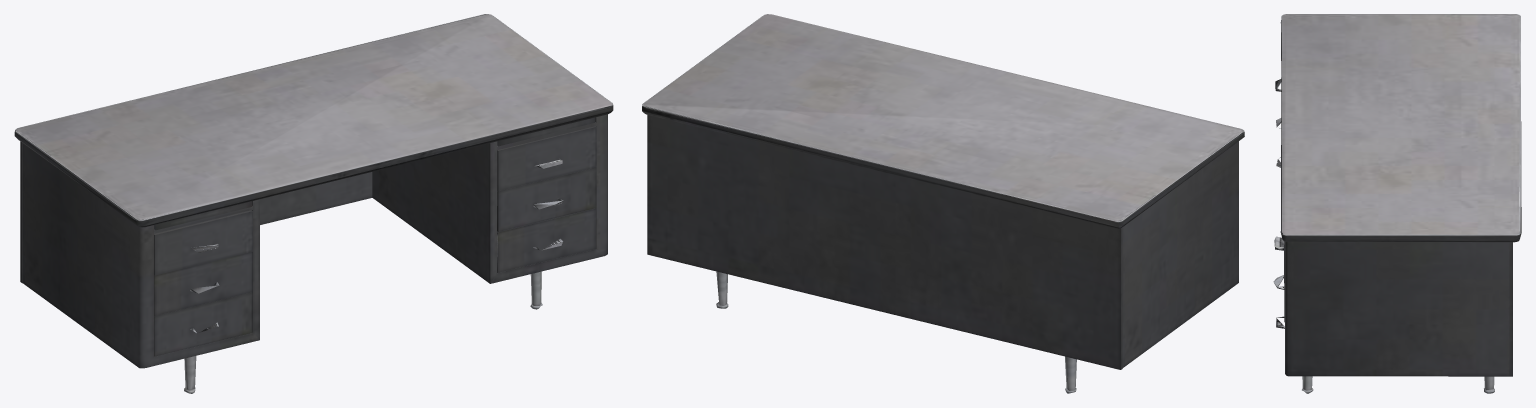
The model's file is metal_office_desk.glb.
3 views of the same model, side by side, from view 1: azimuth 30°, elevation 25°; view 2: azimuth 150°, elevation 25°; view 3: azimuth 270°, elevation 25° (orthographic). The views are drawn at different scales.
Parts seen in each view (by area): view 1: metal_office_desk, metal_office_desk_drawer_04, metal_office_desk_drawer_01, metal_office_desk_drawer_02, metal_office_desk_drawer_03, metal_office_desk_drawer_06, metal_office_desk_drawer_05, metal_office_desk_tray_01, metal_office_desk_tray_02; view 2: metal_office_desk; view 3: metal_office_desk.
Part boxes in pixels (x1,y1,x2,y2): metal_office_desk: (14, 14, 613, 393); metal_office_desk_drawer_04: (154, 210, 252, 275); metal_office_desk_drawer_01: (497, 126, 596, 191); metal_office_desk_drawer_02: (497, 167, 596, 231); metal_office_desk_drawer_03: (497, 208, 595, 272); metal_office_desk_drawer_06: (154, 292, 252, 356); metal_office_desk_drawer_05: (154, 252, 252, 315); metal_office_desk_tray_01: (154, 201, 252, 230); metal_office_desk_tray_02: (497, 117, 595, 146); metal_office_desk: (642, 14, 1244, 393); metal_office_desk: (1280, 14, 1521, 393).
Size of the model in its own units: 2 by 0.7868 by 0.9454.
Materials: 1 (1 with a texture image).
